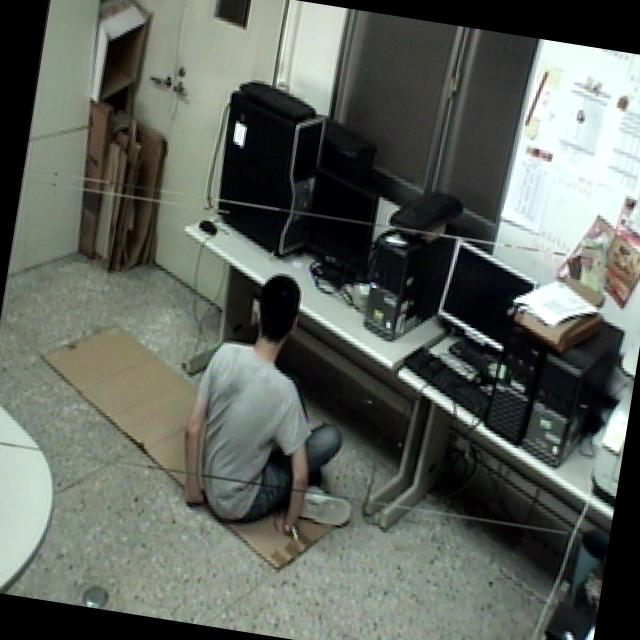sit: (162, 256, 388, 554)
